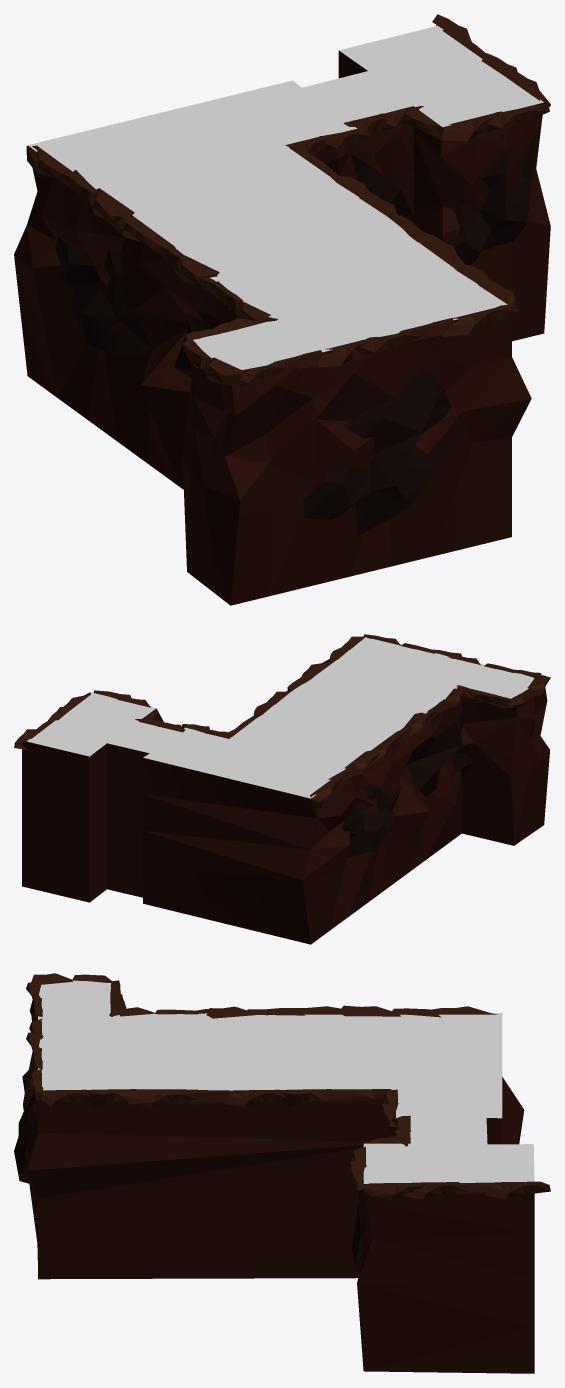
Rendered from TaatoinePlatform.fbx.
3 renders of one model, top to bottom at view 1: azimuth 30°, elevation 25°; view 2: azimuth 150°, elevation 25°; view 3: azimuth 270°, elevation 25°, orthographic. The views are drawn at different scales.
Visible parts, largest first — view 1: Central_Borders, Central_Floor_Platform; view 2: Central_Borders, Central_Floor_Platform; view 3: Central_Borders, Central_Floor_Platform.
Boxes of the visible parts, left/top/right/bottom form: Central_Borders: left=14, top=14, right=550, bottom=605; Central_Floor_Platform: left=28, top=25, right=543, bottom=369; Central_Borders: left=14, top=634, right=550, bottom=944; Central_Floor_Platform: left=27, top=637, right=534, bottom=798; Central_Borders: left=14, top=973, right=550, bottom=1373; Central_Floor_Platform: left=38, top=980, right=534, bottom=1183.
Bounding box in the file's own units: 32.75 × 13.6 × 34.6.
